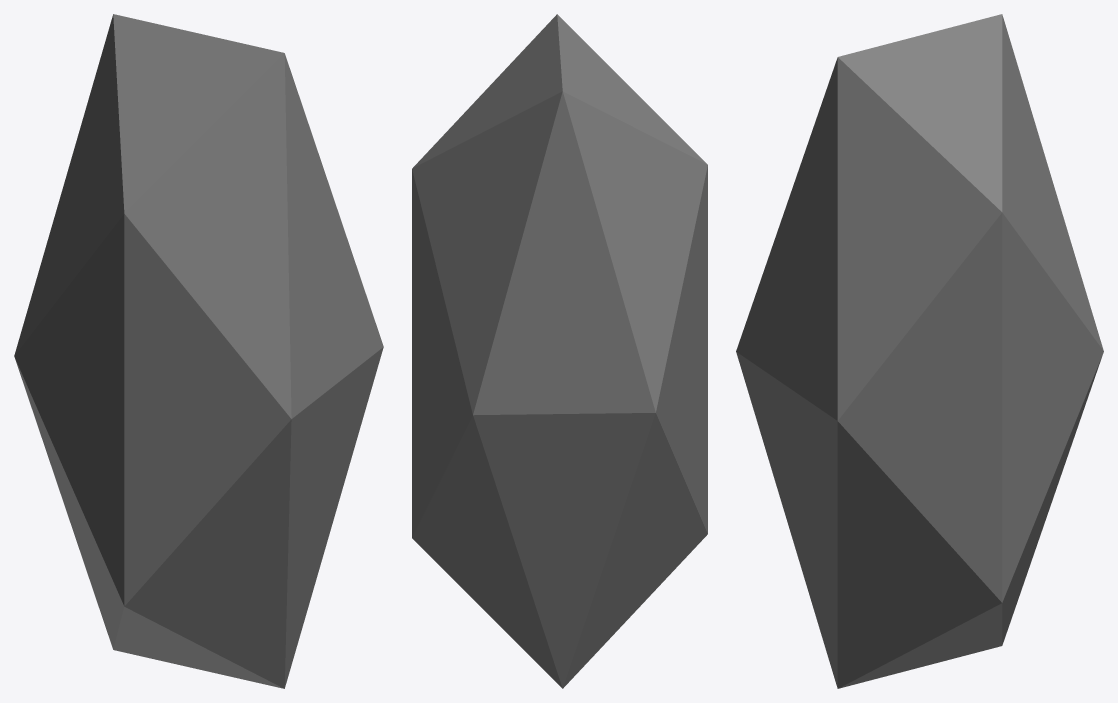
File: Golem_ArmDown.fbx
The picture shows the model from 3 angles, left to right: view 1: azimuth 30°, elevation 25°; view 2: azimuth 150°, elevation 25°; view 3: azimuth 270°, elevation 25°; orthographic projection. The views are drawn at different scales.
Parts seen in each view (by area): view 1: ArmDown; view 2: ArmDown; view 3: ArmDown.
Part boxes in pixels (bbox=[...]): ArmDown: bbox=[14, 14, 383, 688]; ArmDown: bbox=[412, 14, 707, 688]; ArmDown: bbox=[736, 14, 1103, 688].
Bounding box in the file's own units: 82.26 × 174 × 91.97.
Materials: 1 (1 with a texture image).
